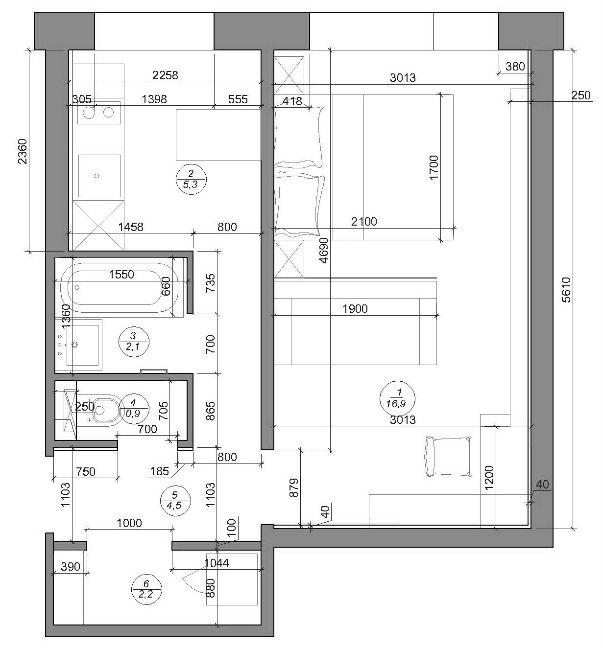bathroom: (55, 256, 187, 372), (55, 381, 188, 442)
bedroom: (275, 49, 532, 529)
hallway: (53, 251, 262, 542)
kitchen: (68, 49, 262, 250)
utility_room: (54, 550, 261, 626)
